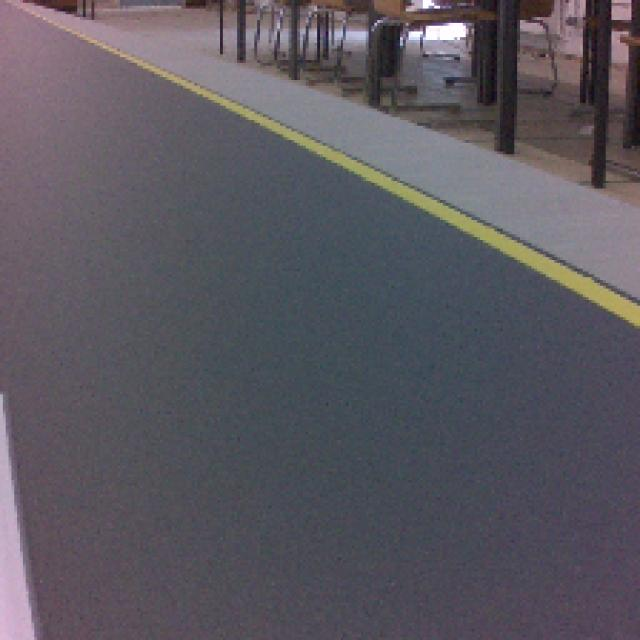Road: (5, 331, 639, 640)
